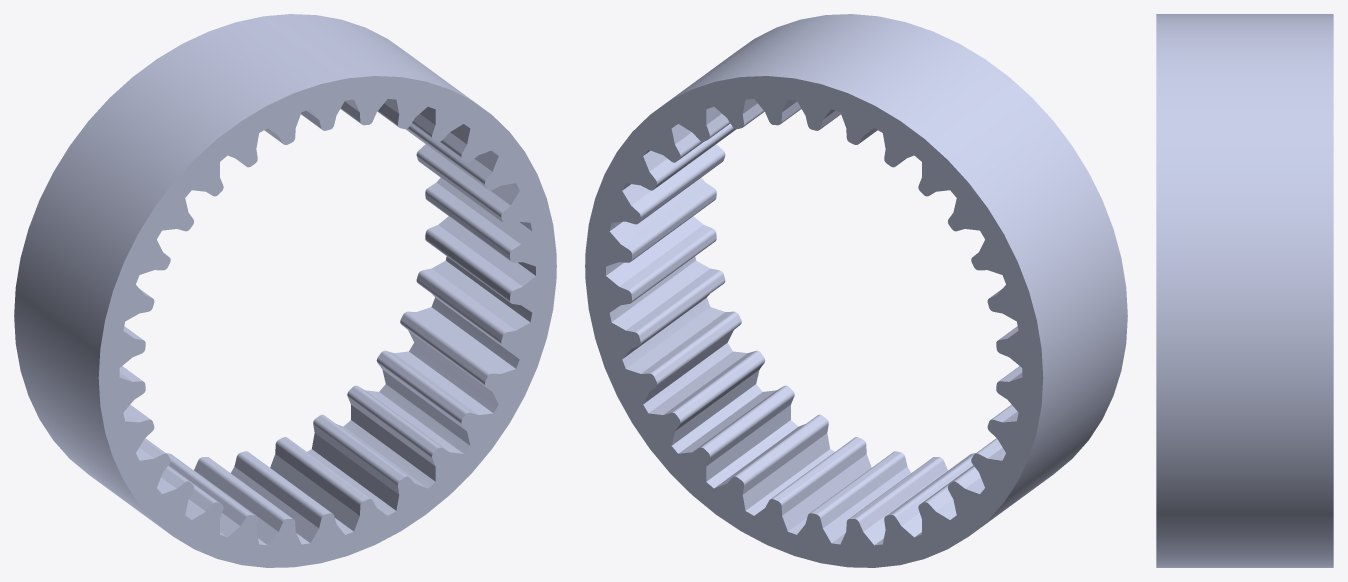
File: couplerV2.glb
3 views of the same model, side by side, from view 1: azimuth 30°, elevation 25°; view 2: azimuth 150°, elevation 25°; view 3: azimuth 270°, elevation 25° (orthographic). The views are drawn at different scales.
Parts seen in each view (by area): view 1: couplerV2; view 2: couplerV2; view 3: couplerV2.
Boxes of the visible parts, x1,y1,x2,y2 form: couplerV2: (14, 14, 556, 567); couplerV2: (585, 14, 1127, 567); couplerV2: (1156, 14, 1333, 567).
Bounding box in the file's own units: 0.125 × 0.1249 × 0.04.
